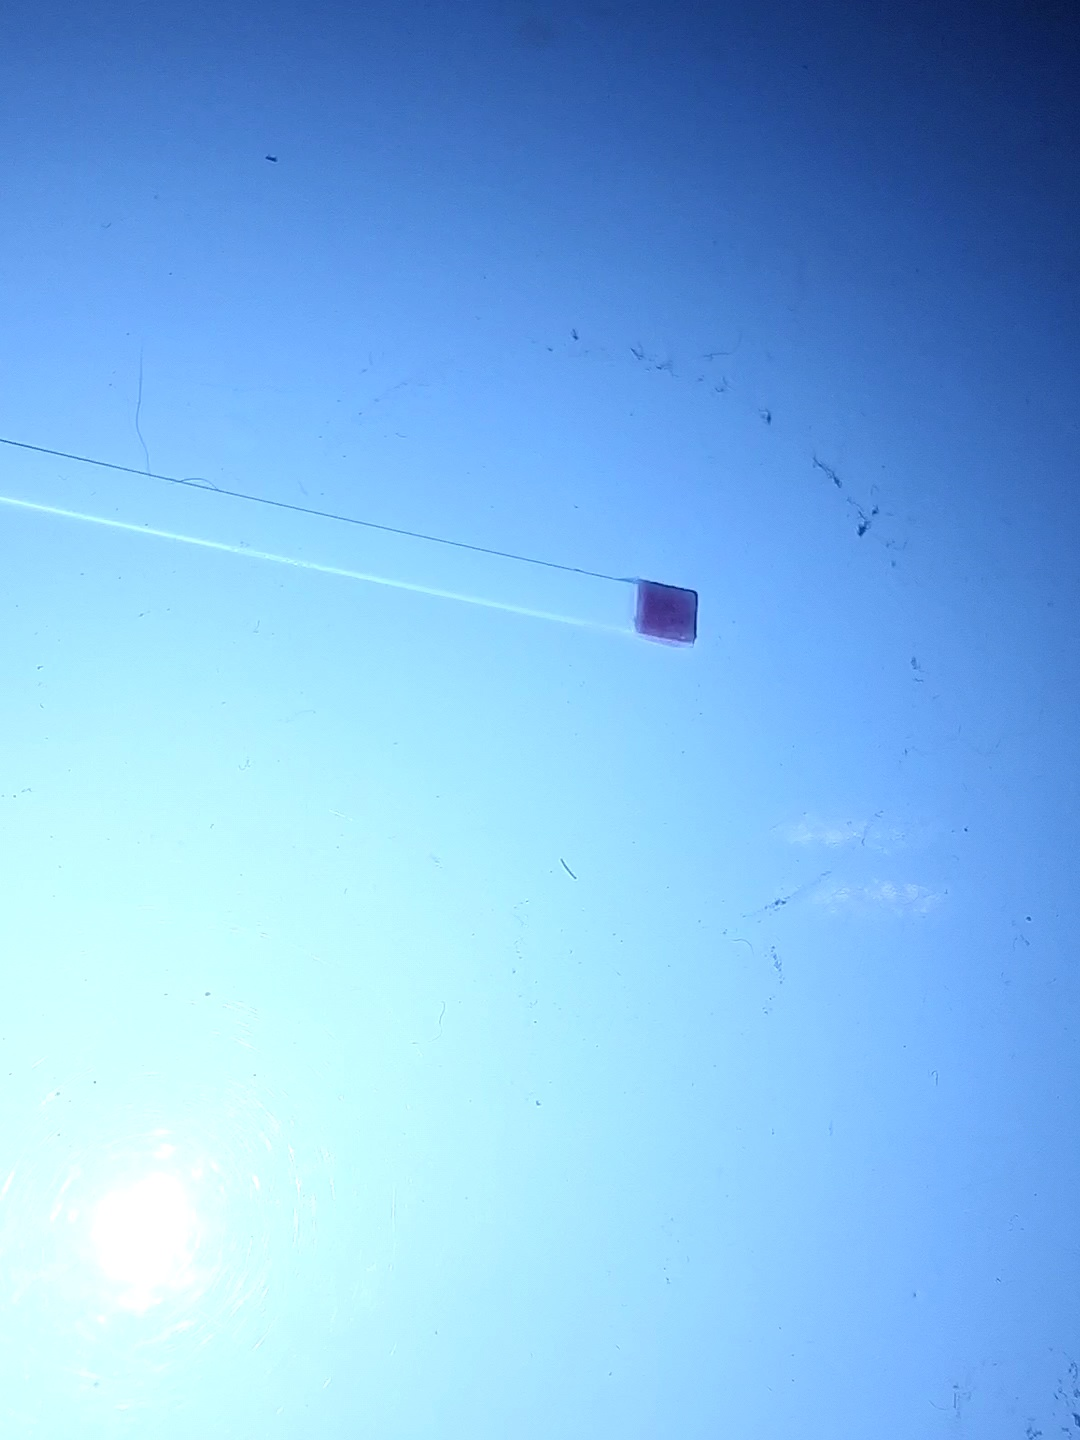keto-tip: (628, 573, 706, 652)
